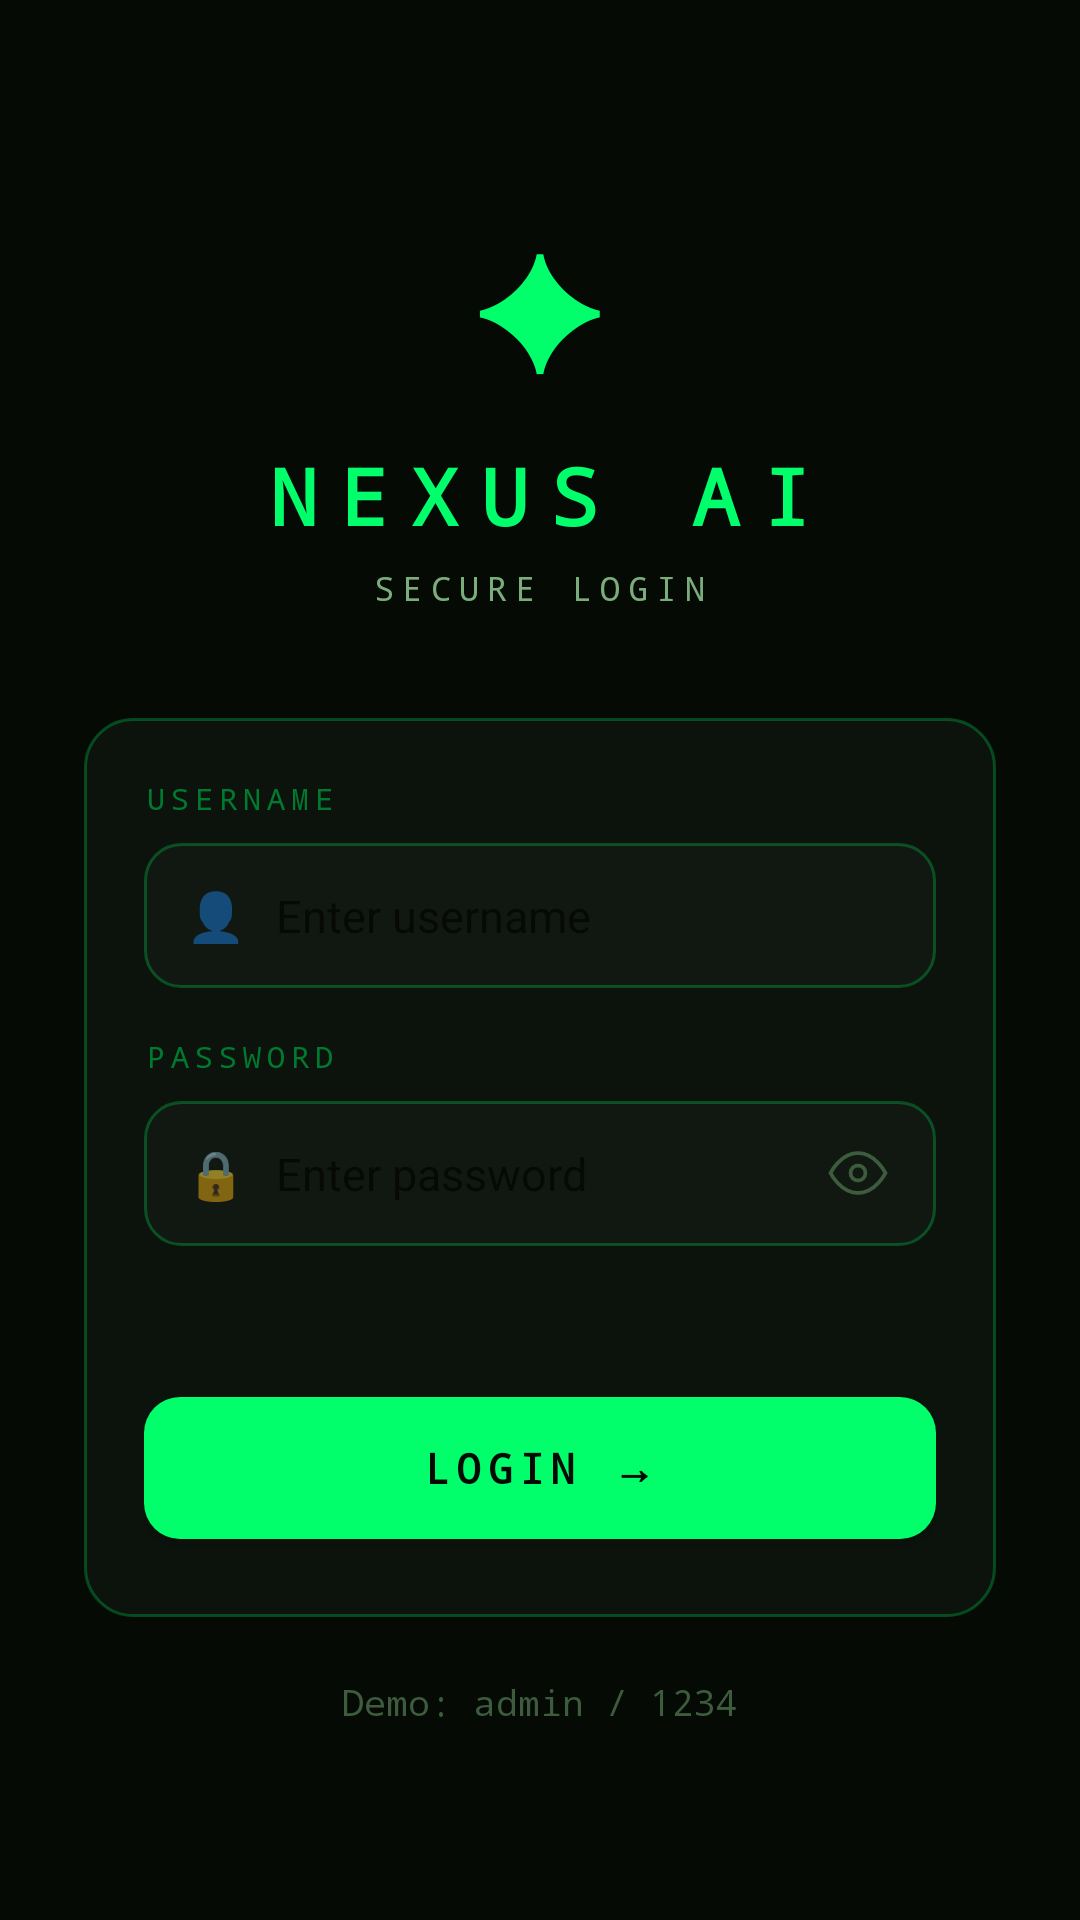

Screen size 1080px x 1920px. Icon name, then its box in pixels as rect(x1, y1, x2, y2):
eye: rect(828, 1151, 888, 1195)
